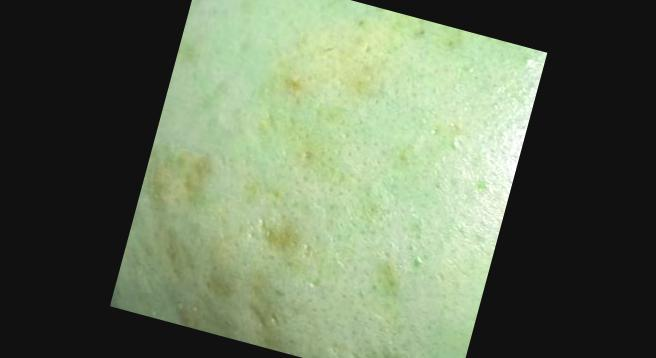Acne: (139, 138, 221, 214), (237, 274, 304, 346), (248, 206, 314, 262), (343, 51, 400, 100), (371, 254, 410, 300), (270, 64, 312, 102), (196, 267, 240, 302), (291, 142, 322, 170), (518, 51, 541, 73), (411, 18, 432, 42), (445, 131, 465, 153), (495, 39, 516, 51)
